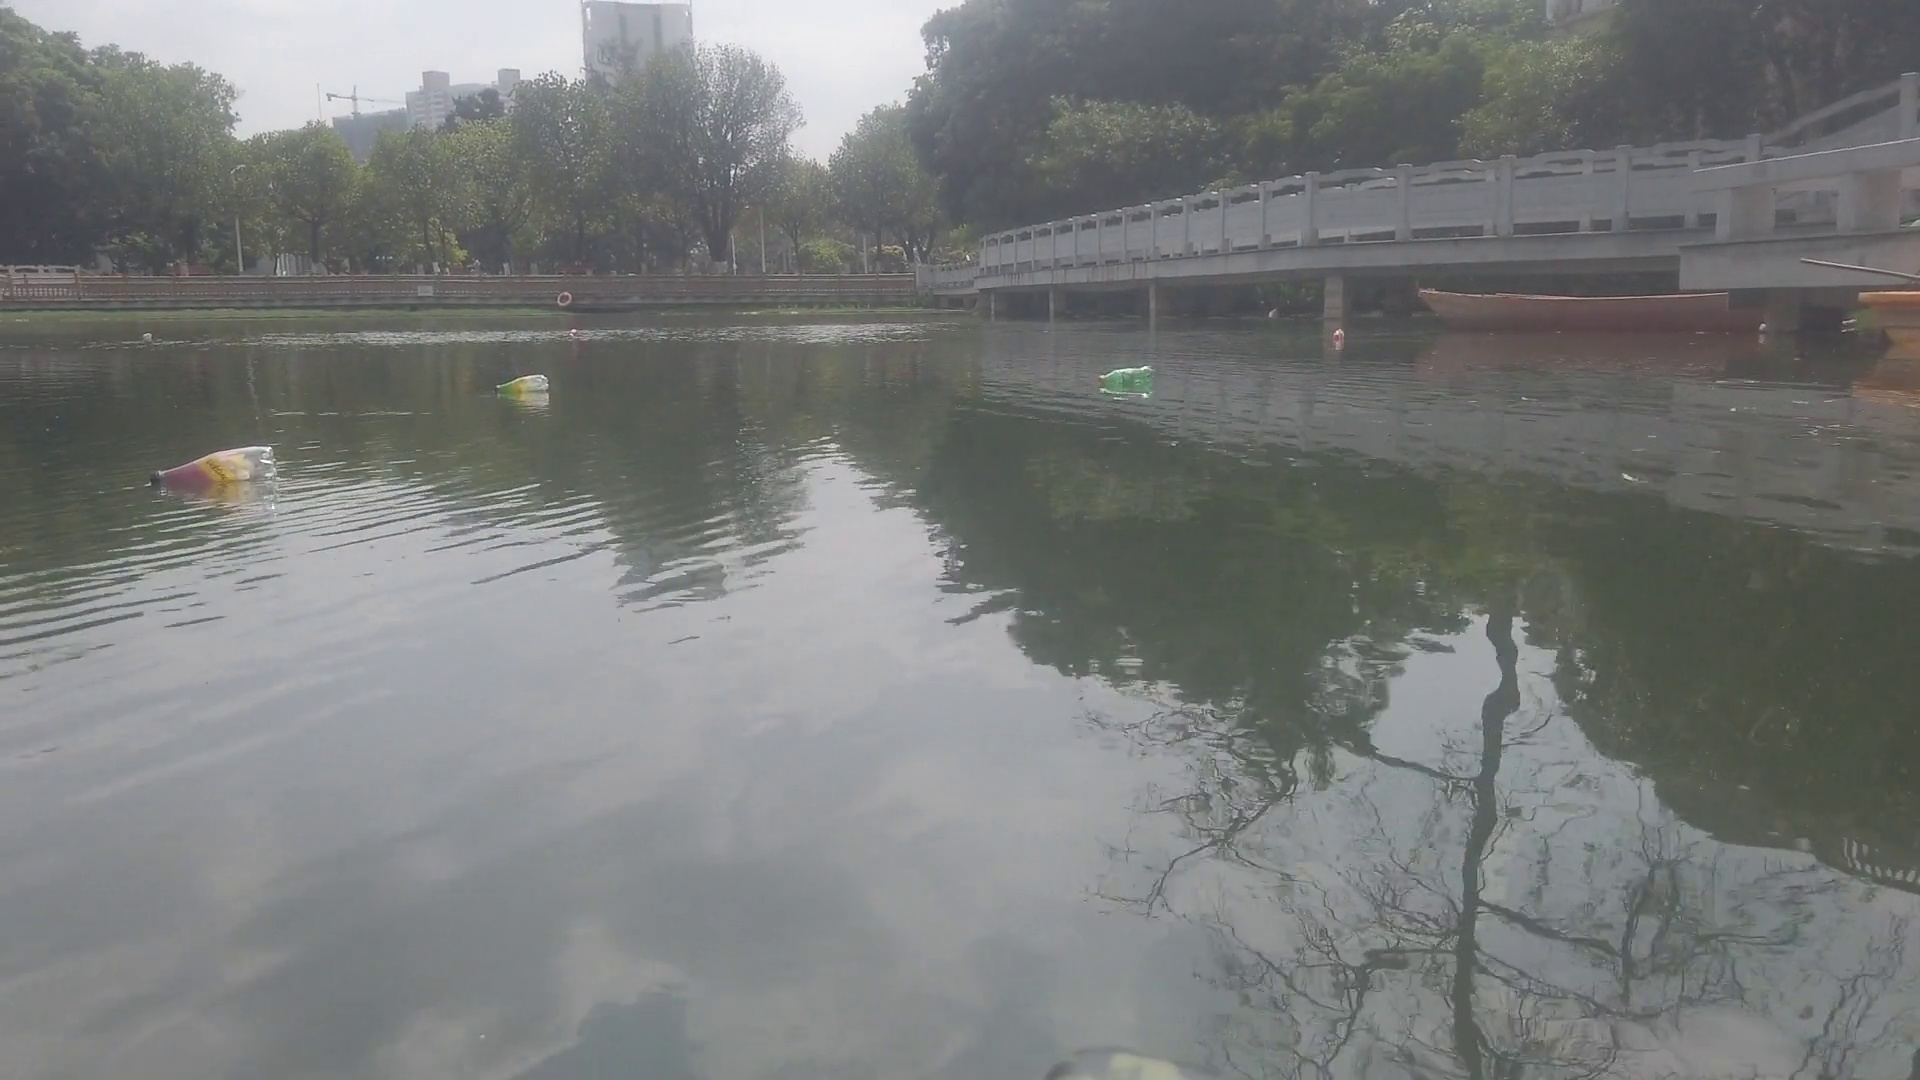bottle: (144, 447, 280, 483), (1097, 361, 1155, 385), (495, 371, 551, 393), (138, 328, 156, 342), (1331, 326, 1344, 342), (568, 324, 578, 339)
